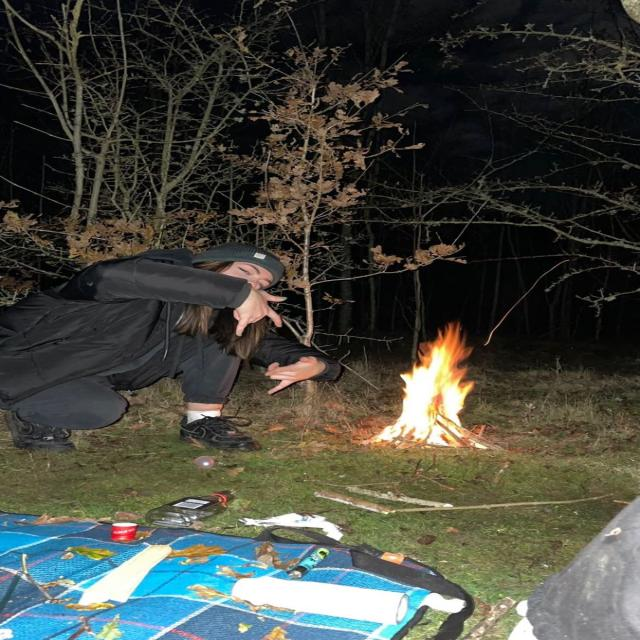fire: (376, 322, 476, 446)
